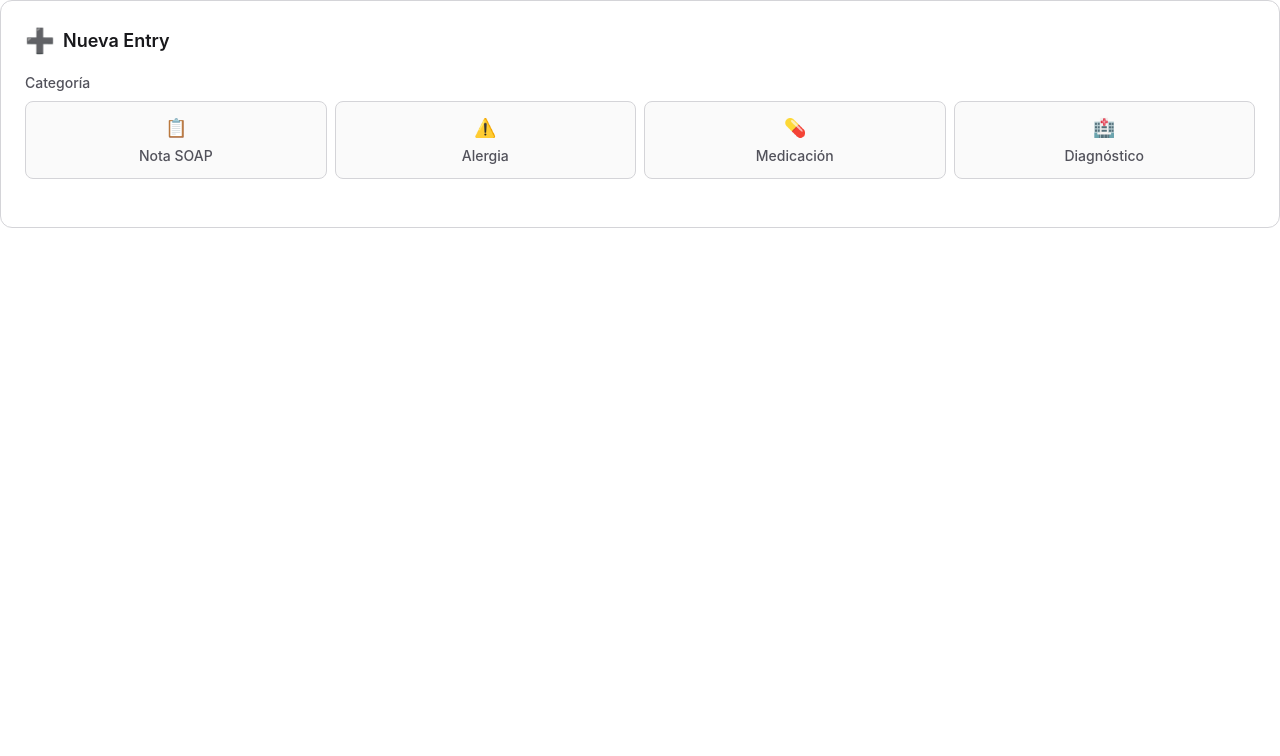
Test: EntryForm — formulario › todo label del formulario está asociado a su control (invariante a11y)
The width and height of the screenshot is (1280, 756).
Click the button "📋 Nota SOAP". click: coordinates (176, 140)
box: [25,101,326,179]
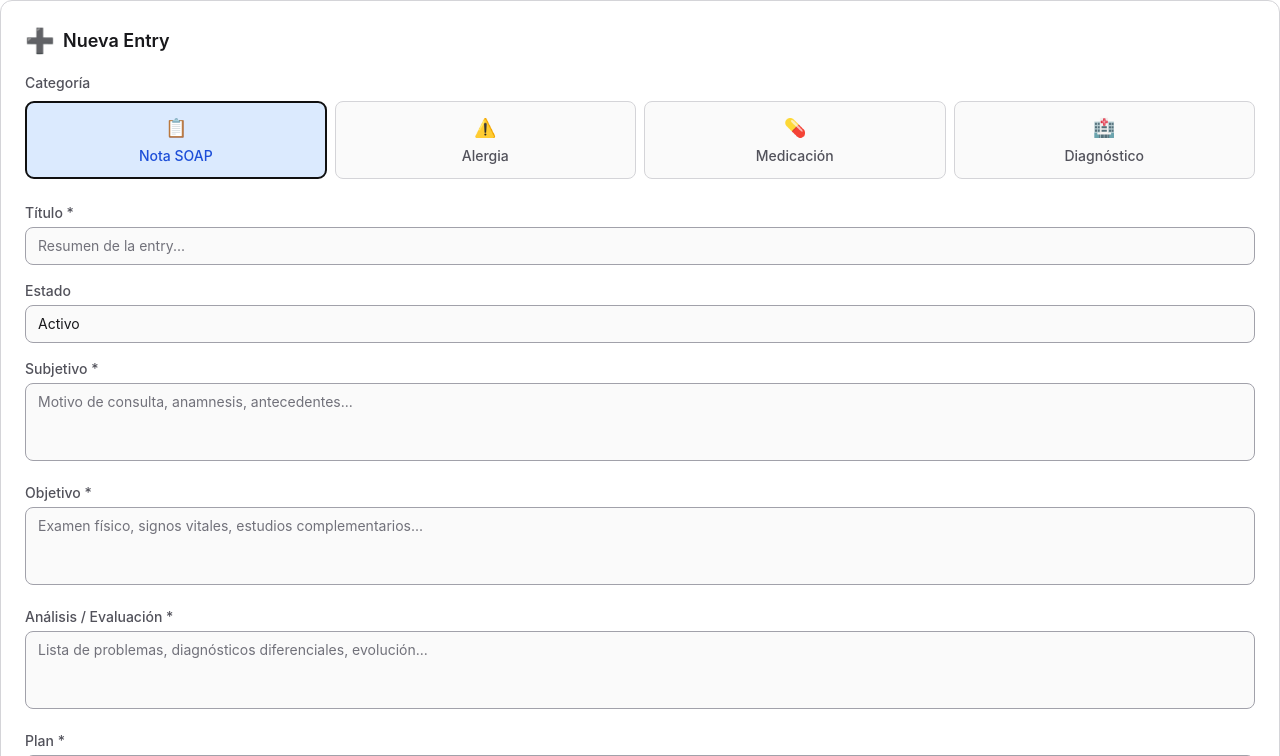
Check: the label "Título *" is shown, box [25,204,74,221]
